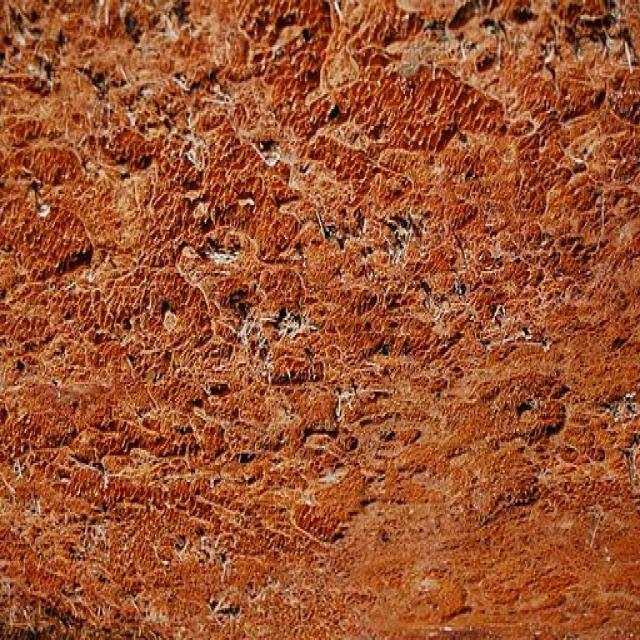Rod_bacteria: (2, 2, 638, 640)
